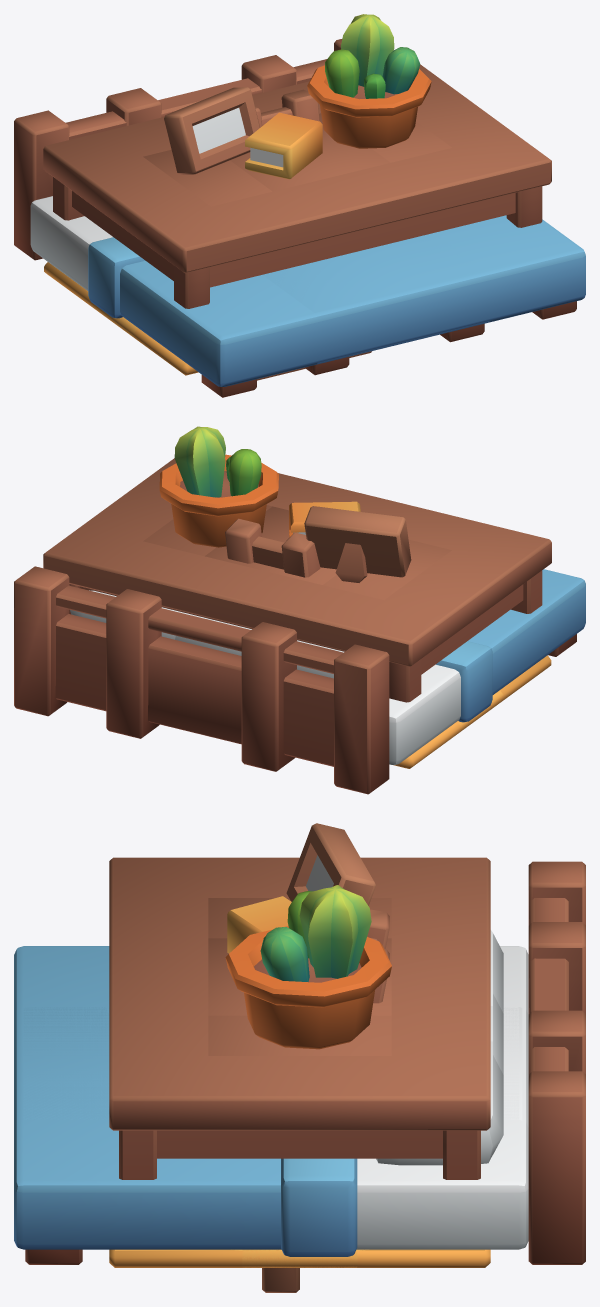
Rendered from kit_furniture.glb.
The picture shows the model from 3 angles, top to bottom: view 1: azimuth 30°, elevation 25°; view 2: azimuth 150°, elevation 25°; view 3: azimuth 270°, elevation 25°; orthographic projection. The views are drawn at different scales.
Visible parts, largest first — view 1: bed_double_A, table_medium_long, cabinet_medium_decorated, bed_single_A, table_small, rug_rectangle_stripes_A, chair_A_wood; view 2: table_medium_long, bed_double_A, bed_single_A, cabinet_medium_decorated, chair_A_wood, table_small, rug_rectangle_stripes_A; view 3: bed_double_A, table_medium_long, cabinet_medium_decorated, bed_single_A, rug_rectangle_stripes_A, table_small, rug_oval_A, pictureframe_large_A, chair_A_wood.
Part boxes in pixels (bbox=[...]): bed_double_A: bbox=[14, 39, 585, 397]; table_medium_long: bbox=[43, 64, 551, 308]; cabinet_medium_decorated: bbox=[143, 14, 451, 206]; bed_single_A: bbox=[106, 55, 489, 375]; table_small: bbox=[230, 113, 390, 191]; rug_rectangle_stripes_A: bbox=[44, 262, 198, 375]; chair_A_wood: bbox=[255, 89, 319, 127]; table_medium_long: bbox=[43, 458, 551, 702]; bed_double_A: bbox=[14, 566, 585, 794]; bed_single_A: bbox=[106, 589, 296, 771]; cabinet_medium_decorated: bbox=[143, 426, 451, 599]; chair_A_wood: bbox=[225, 518, 320, 577]; table_small: bbox=[205, 506, 336, 584]; rug_rectangle_stripes_A: bbox=[393, 655, 551, 768]; bed_double_A: bbox=[14, 861, 585, 1264]; table_medium_long: bbox=[109, 857, 490, 1179]; cabinet_medium_decorated: bbox=[208, 823, 391, 1055]; bed_single_A: bbox=[16, 922, 585, 1127]; rug_rectangle_stripes_A: bbox=[109, 1249, 490, 1267]; table_small: bbox=[208, 938, 391, 1015]; rug_oval_A: bbox=[231, 1249, 368, 1267]; pictureframe_large_A: bbox=[262, 1268, 299, 1292]; chair_A_wood: bbox=[367, 909, 389, 1003].
Bounding box in the file's own units: 3.1 × 2.43 × 3.
1 material, 1 textured.
